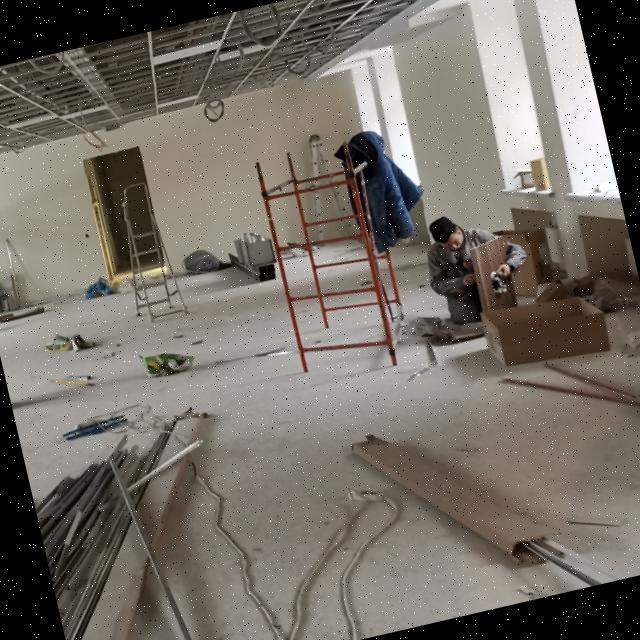NoHelmet: (426, 211, 469, 257)
